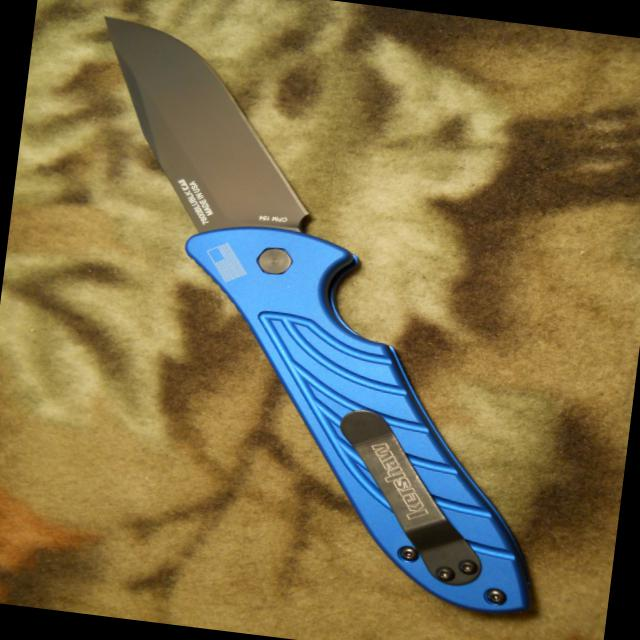knife: (66, 9, 354, 281)
